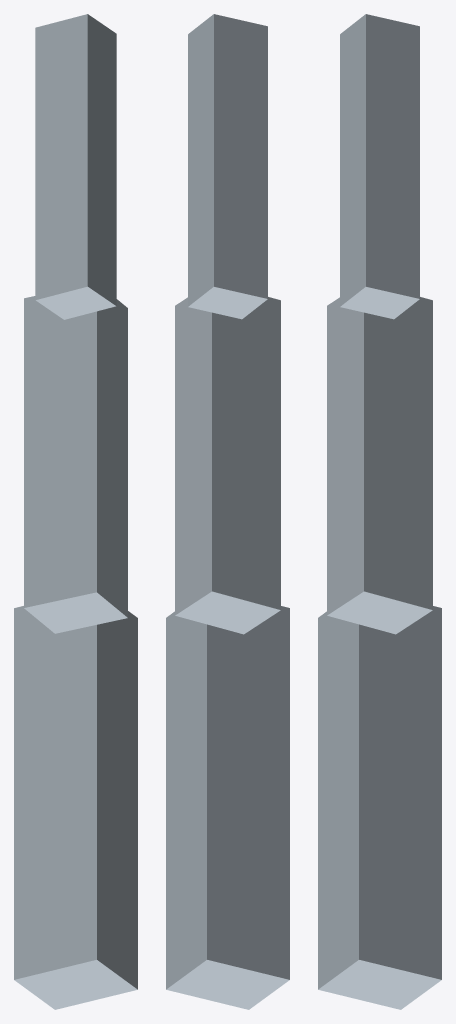
The model's file is baccarat.glb.
3 views of the same model, side by side, from view 1: azimuth 30°, elevation 25°; view 2: azimuth 150°, elevation 25°; view 3: azimuth 330°, elevation 25° (orthographic).
Size of the model in its own units: 28 by 308 by 24.
